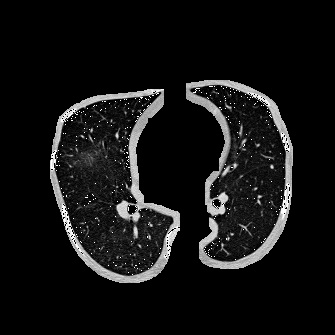PN: (270, 165, 274, 169)
